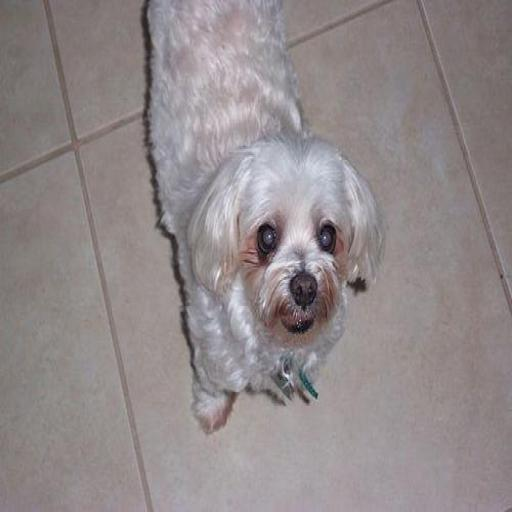dog_face: (194, 138, 383, 357)
